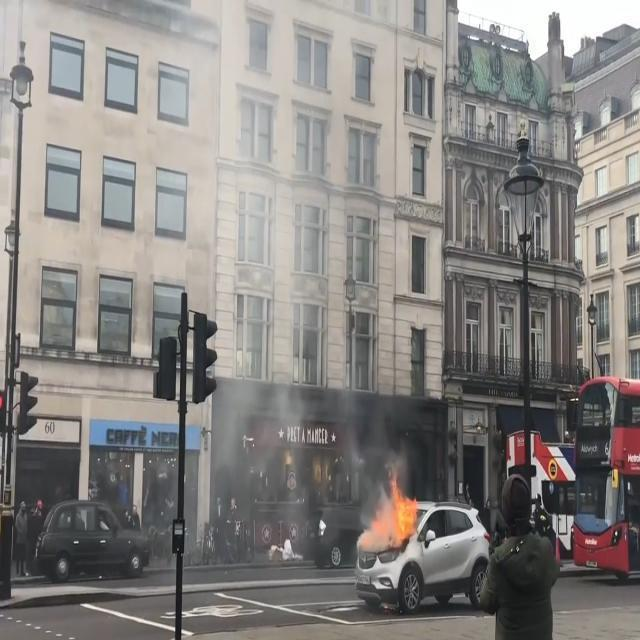fire: (356, 478, 420, 552)
